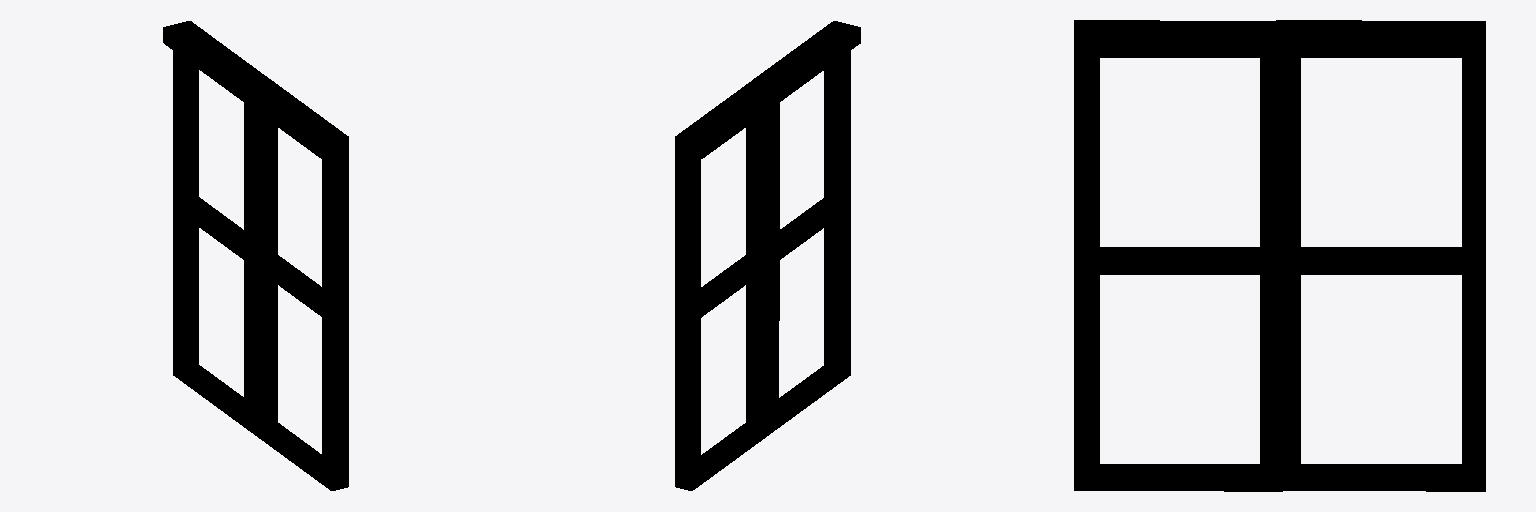
robot.urdf — glass_door:
<?xml version="0.0" ?>
<robot name="glass_door">

  <link name="base_link">
    <inertial>
      <origin rpy="0 0 0" xyz="0 0 0"/>
       <mass value=".0"/>
       <inertia ixx="0" ixy="0" ixz="0" iyy="0" iyz="0" izz="0"/>
    </inertial>
  </link>

  <link name="glass_door_1">
    <inertial>
      <origin rpy="0 0 0" xyz="0 0 0"/>
       <mass value=".0"/>
       <inertia ixx="0" ixy="0" ixz="0" iyy="0" iyz="0" izz="0"/>
    </inertial>
    <visual>
      <origin rpy="1.57 0 1.57" xyz="0 0.459 1.202"/>
      <geometry>
        <mesh filename="package://adream_simulation/models/cad_models/obj/glass_door_1.obj" scale="1 1 1"/>
      </geometry>
       <material name="black">
        <color rgba="0 0 0 1"/>
      </material>
    </visual>
  </link>

  <link name="glass_door_2">
    <inertial>
      <origin rpy="0 0 0" xyz="0 0 0"/>
       <mass value=".0"/>
       <inertia ixx="0" ixy="0" ixz="0" iyy="0" iyz="0" izz="0"/>
    </inertial>
    <visual>
      <origin rpy="1.57 0 1.57" xyz="0 -0.459 1.202"/>
      <geometry>
        <mesh filename="package://adream_simulation/models/cad_models/obj/glass_door_2.obj" scale="1 1 1"/>
      </geometry>
       <material name="black">
        <color rgba="0 0 0 1"/>
      </material>
    </visual>
  </link>

  <joint name="base_to_door_1" type="revolute">
    <parent link="base_link"/>
    <child link="glass_door_1"/>
    <axis xyz="0 0 -1"/>
    <limit effort="1000.0" lower="0.0" upper="1.57" velocity="0.5"/>
    <origin rpy="0 0 0" xyz="0 -0.892 0"/>
  </joint>

  <joint name="base_to_door_2" type="revolute">
    <parent link="base_link"/>
    <child link="glass_door_2"/>
    <axis xyz="0 0 1"/>
    <limit effort="1000.0" lower="0.0" upper="1.57" velocity="0.5"/>
    <origin rpy="0 0 0" xyz="0 0.892 0"/>
  </joint>

</robot>

--- Render facts (derived) ---
The picture shows the robot from 3 angles, left to right: view 1: azimuth 30°, elevation 25°; view 2: azimuth 150°, elevation 25°; view 3: azimuth 270°, elevation 25°; orthographic projection.
Model glass_door with 3 links and 2 joints (2 revolute), rooted at base_link, posed all joints at 0.
Visible links, largest first — view 1: glass_door_1, glass_door_2; view 2: glass_door_2, glass_door_1; view 3: glass_door_1, glass_door_2.
Boxes of the visible links, x1,y1,x2,y2 form: glass_door_1: (242, 78, 348, 490); glass_door_2: (163, 21, 267, 433); glass_door_2: (675, 79, 783, 490); glass_door_1: (754, 21, 860, 431); glass_door_1: (1074, 20, 1282, 491); glass_door_2: (1276, 20, 1485, 491).
Size in the robot's own frame: 0.1782 by 1.76 by 2.14 metres.
2 mesh visuals loaded from 2 distinct referenced files (2 OBJ).
